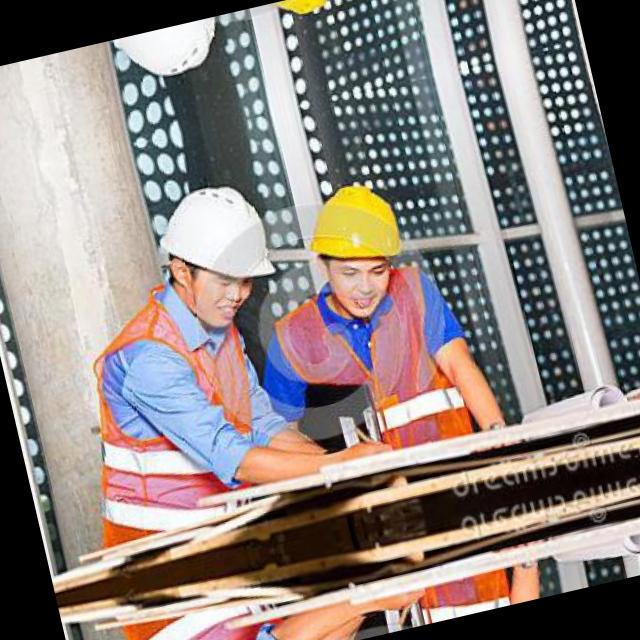helmet: (126, 151, 302, 354), (286, 159, 424, 331), (94, 12, 248, 113), (245, 0, 357, 42)
